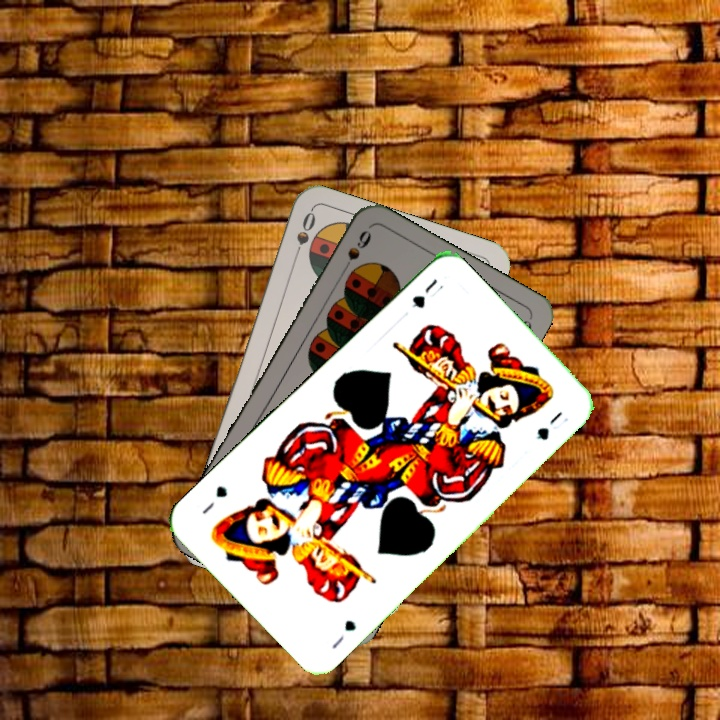GU: (407, 274, 447, 311), (328, 616, 359, 652)
S9: (336, 225, 374, 279)
SO: (288, 208, 318, 265)
